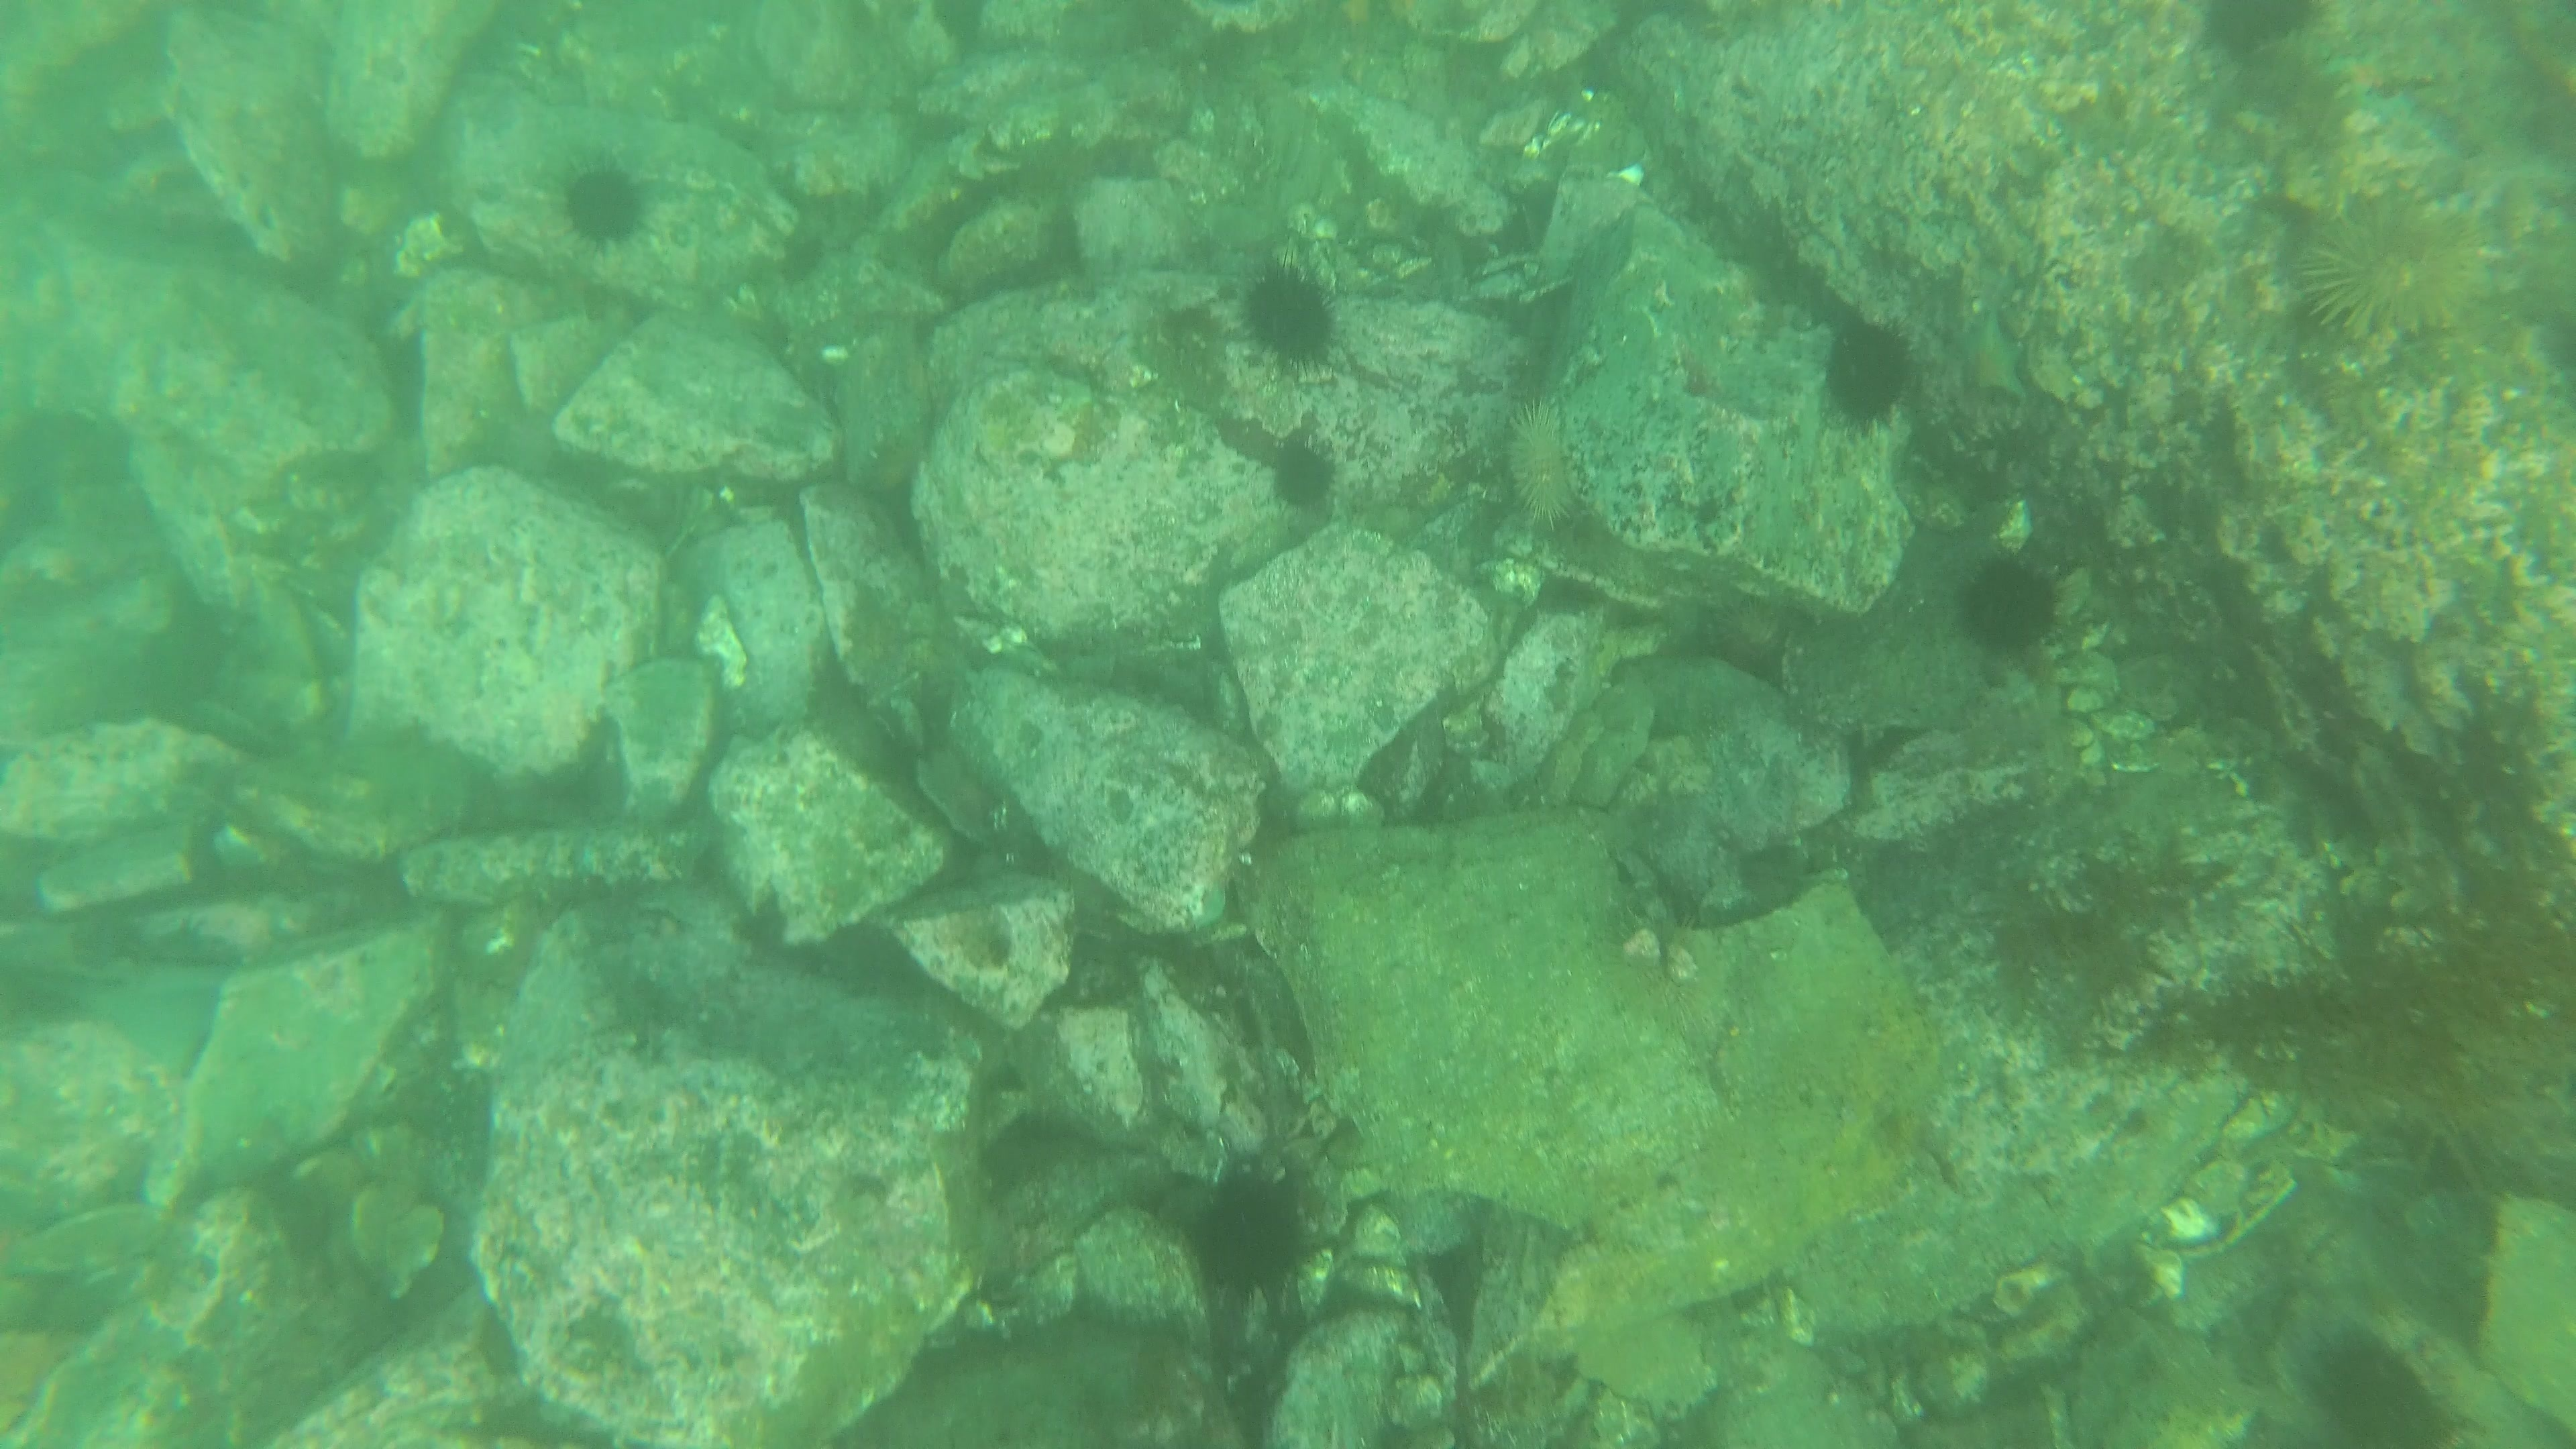echinus: (2293, 191, 2498, 352), (1182, 1159, 1322, 1302), (2295, 1325, 2459, 1445), (1493, 396, 1596, 538), (1233, 257, 1348, 373), (1950, 548, 2066, 660), (1813, 311, 1921, 430), (552, 152, 656, 253), (2190, 0, 2327, 69), (1260, 426, 1343, 517), (1707, 589, 1792, 667)
starfish: (1951, 301, 2038, 412)
